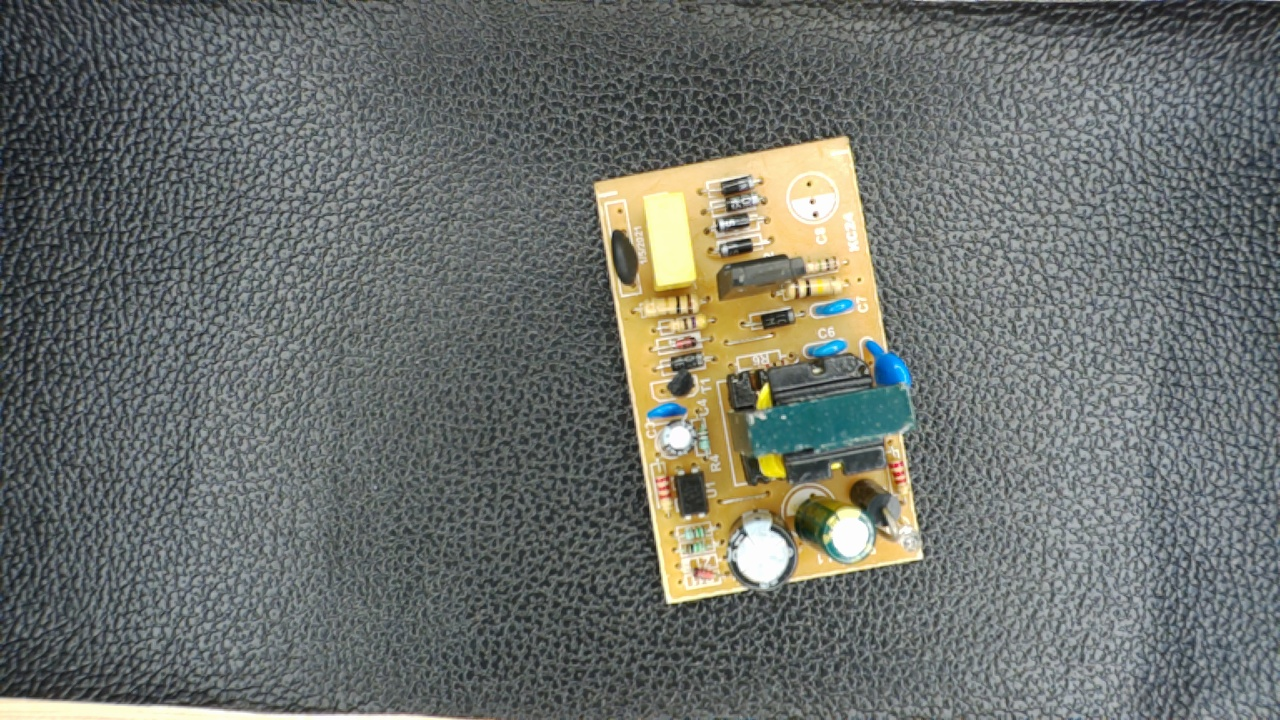fuse: (603, 216, 648, 293)
mov: (860, 333, 915, 392)
optocoupler: (665, 465, 716, 524)
